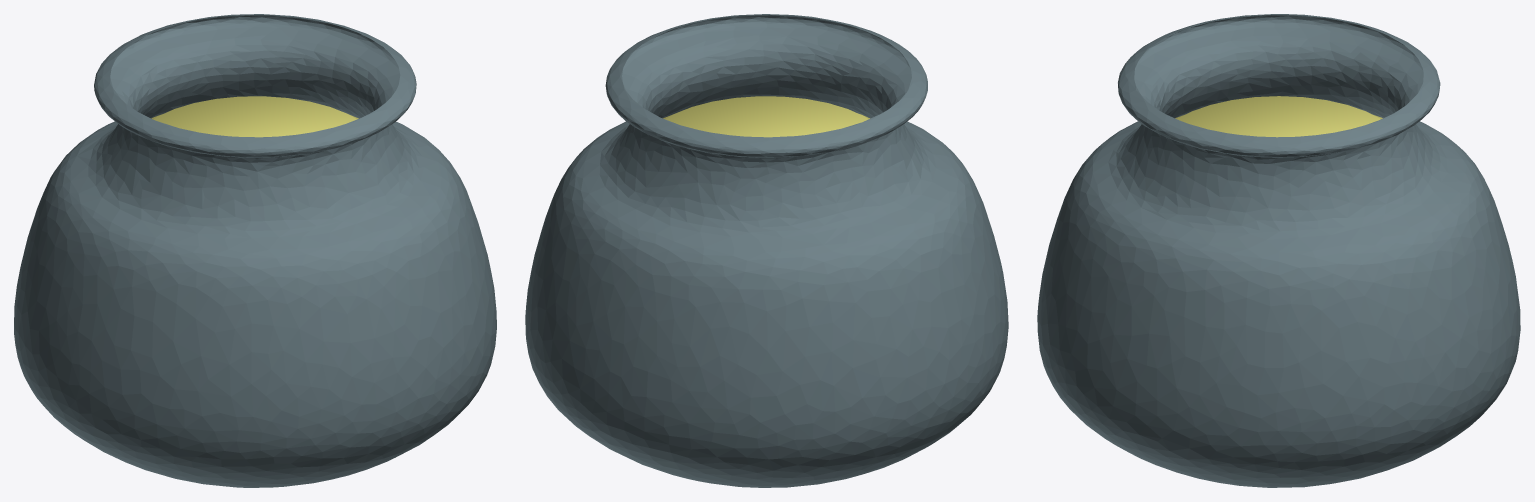
File: daig 1.fbx
The picture shows the model from 3 angles, left to right: view 1: azimuth 30°, elevation 25°; view 2: azimuth 150°, elevation 25°; view 3: azimuth 270°, elevation 25°; orthographic projection.
Parts seen in each view (by area): view 1: Circle, Circle.001; view 2: Circle, Circle.001; view 3: Circle, Circle.001.
Part boxes in pixels (x1,y1,x2,y2): Circle: (14,14,496,487); Circle.001: (151,96,358,137); Circle: (525,14,1008,487); Circle.001: (663,96,869,137); Circle: (1037,14,1520,487); Circle.001: (1175,96,1382,137).
Bounding box in the file's own units: 402 × 343 × 402.
